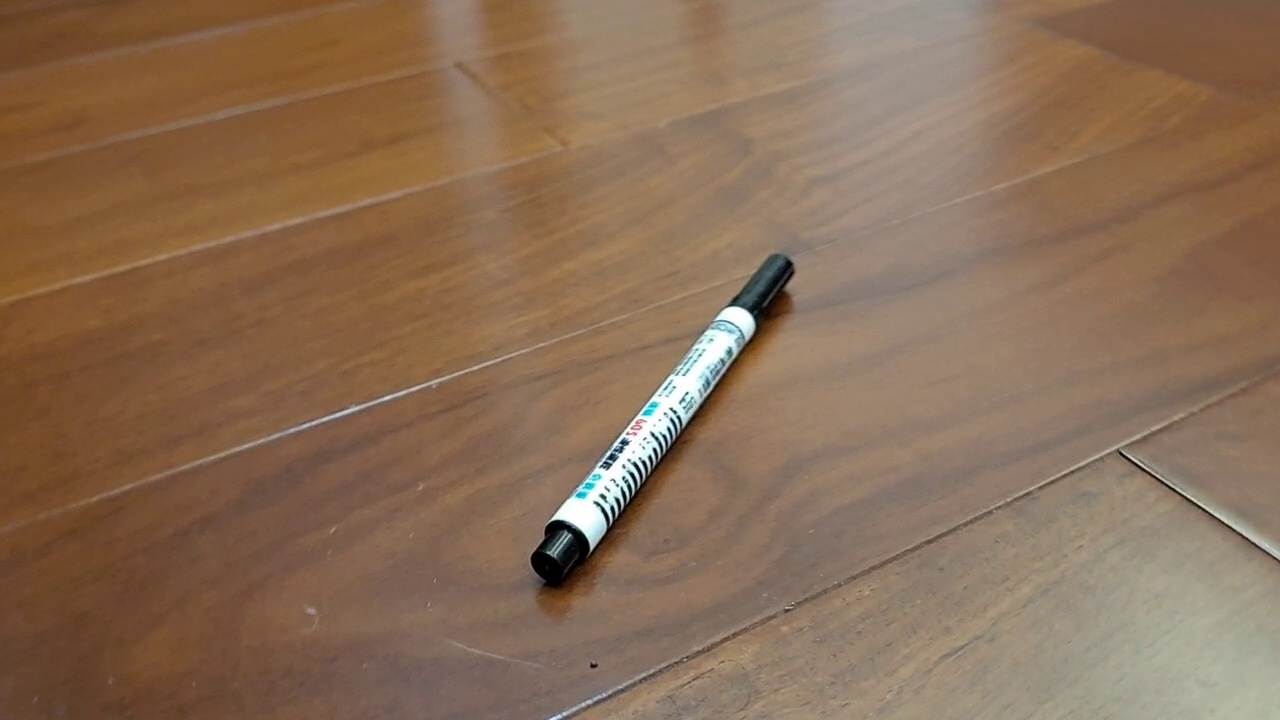pen: (530, 252, 796, 588)
